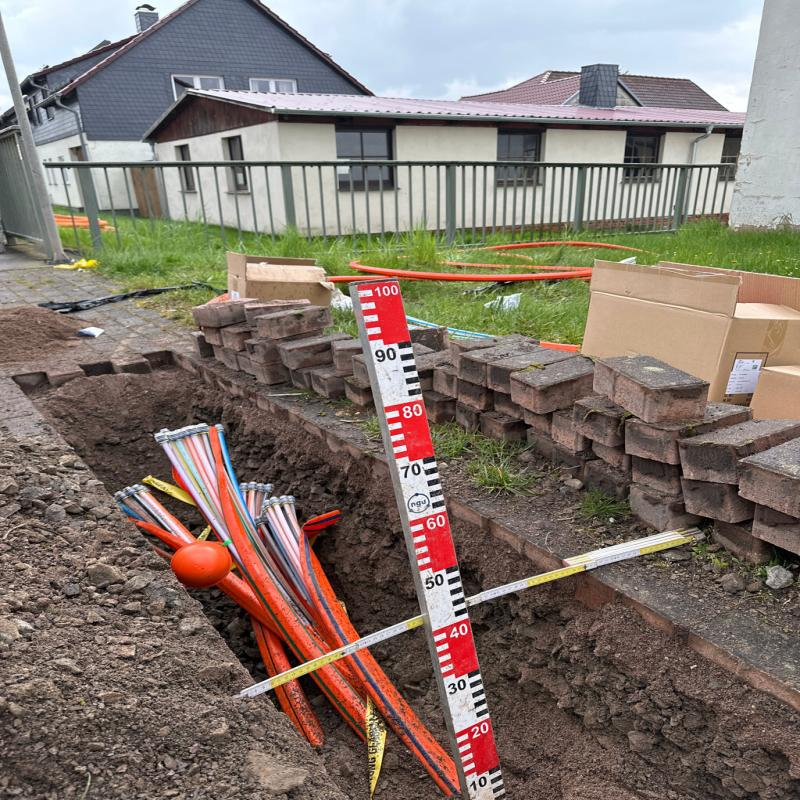Kugelmarker: (172, 542, 231, 588)
Orang-Speednetrohrchen: (154, 423, 460, 796)
